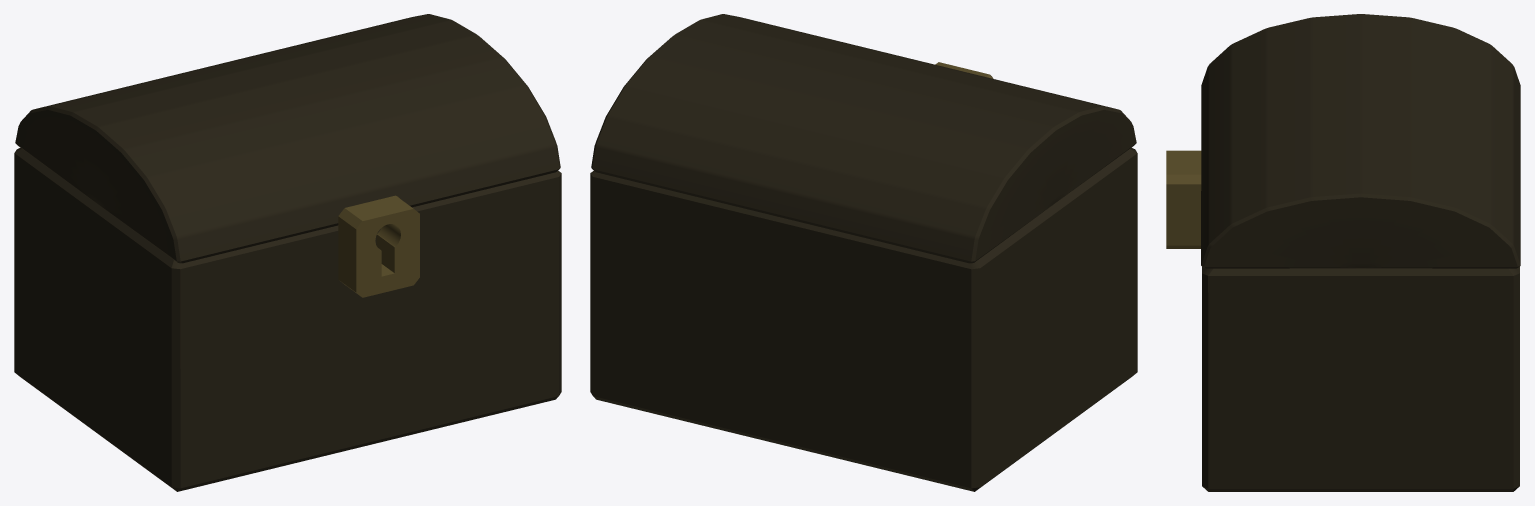
The model's file is chest_closed.fbx.
3 renders of one model, left to right at view 1: azimuth 30°, elevation 25°; view 2: azimuth 150°, elevation 25°; view 3: azimuth 270°, elevation 25°, orthographic. The views are drawn at different scales.
Visible parts, largest first — view 1: Base, Lid, Lock; view 2: Base, Lid; view 3: Lid, Base, Lock.
Boxes of the visible parts, bbox=[...] form: Base: bbox=[14, 148, 561, 491]; Lid: bbox=[15, 14, 560, 263]; Lock: bbox=[338, 195, 419, 297]; Base: bbox=[590, 147, 1137, 491]; Lid: bbox=[591, 14, 1136, 263]; Lid: bbox=[1201, 14, 1520, 268]; Base: bbox=[1202, 266, 1519, 491]; Lock: bbox=[1166, 150, 1201, 248].
Size of the model in its own units: 5.33 by 4.01 by 4.32.
